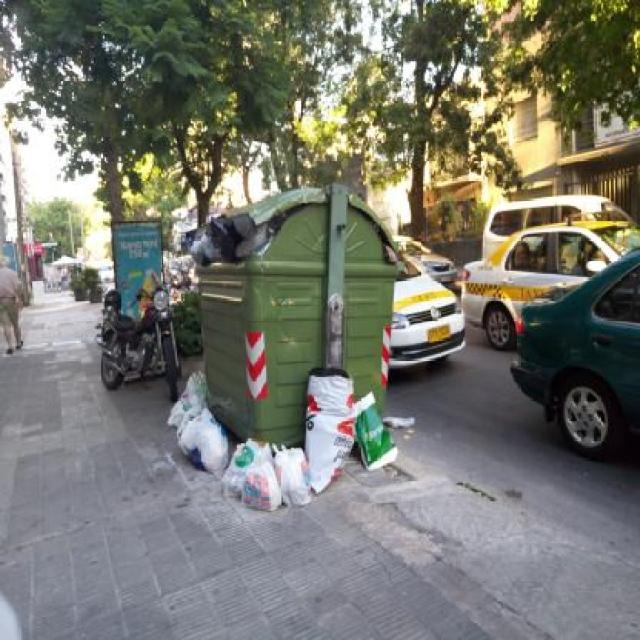garbage: (289, 349, 396, 486), (223, 426, 323, 514), (169, 368, 226, 484)
